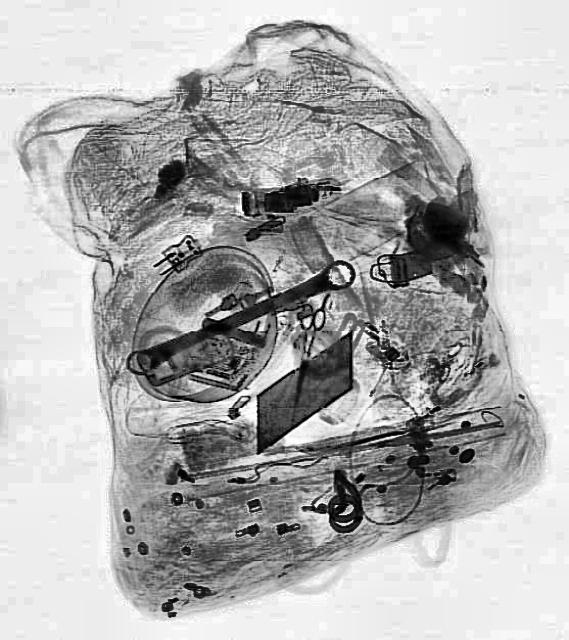Wrench: (120, 252, 360, 382)
